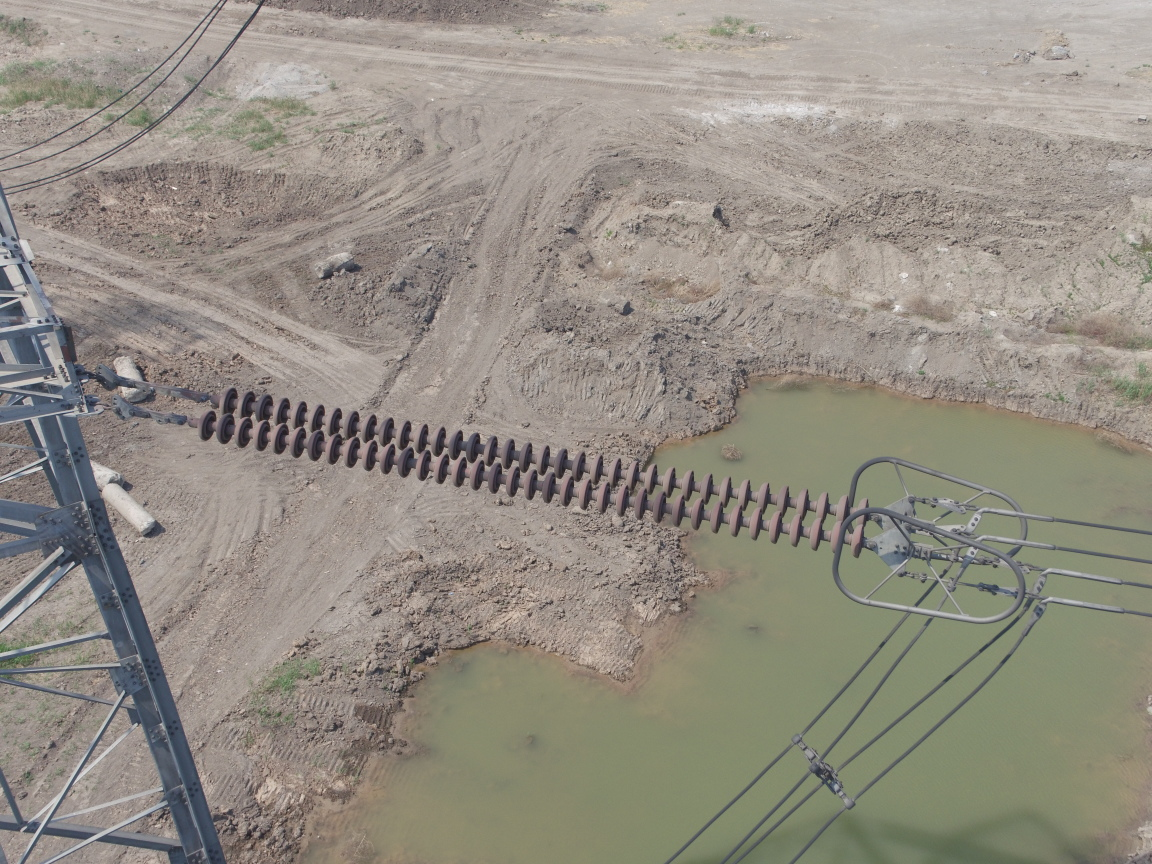insulator: (158, 383, 893, 561)
